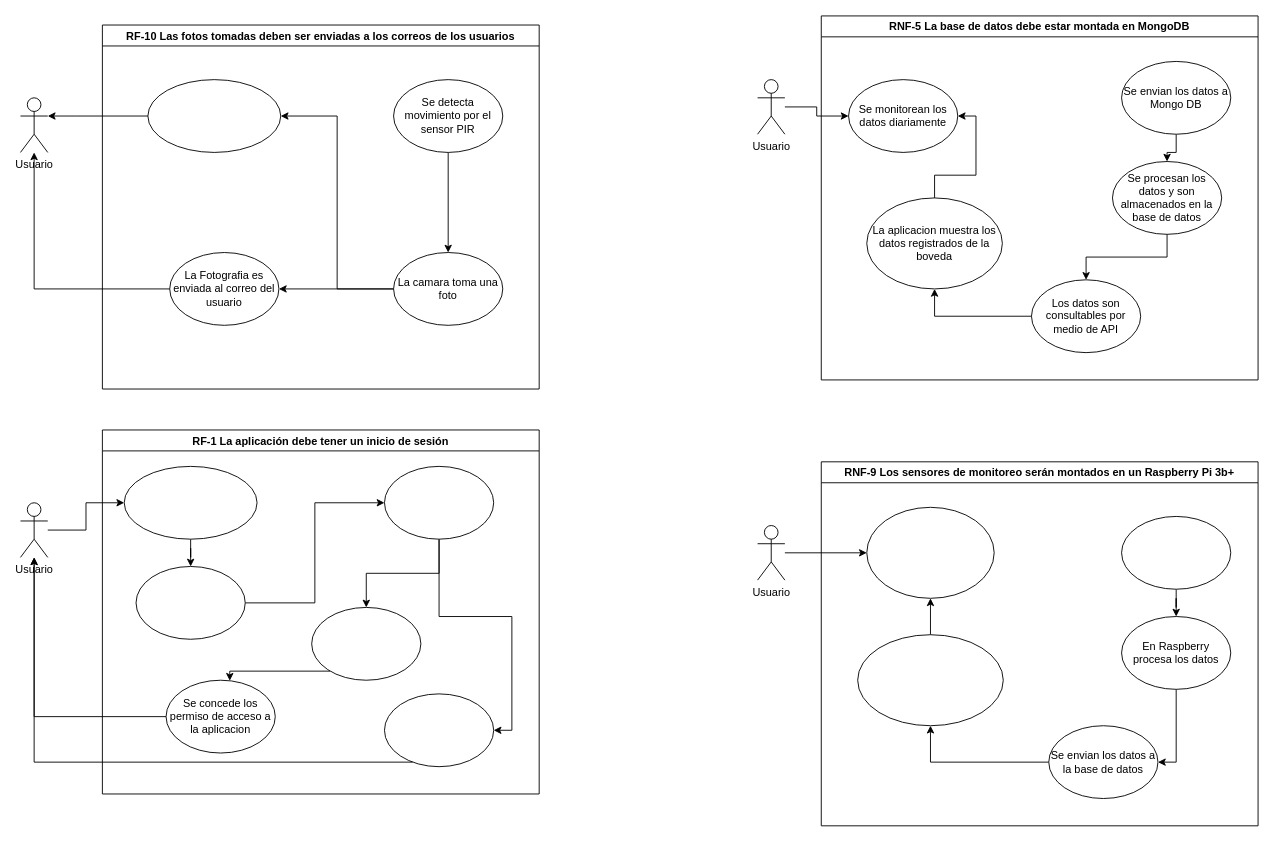
Image size: 1274x842. Some labels were removed from this diagram. Here are the shapes that lost their labels. From the top down, the centre of each, then its label:
(x=214, y=115): Se envia una alerta de movimiento detectado
(x=190, y=502): El usuario ingresa a la aplicacion
(x=439, y=502): Se validan los datos si de la cuenta
(x=930, y=552): Se monitorean los datos diariamente a traves de la aplicacion
(x=1176, y=552): Los sensores registran los datos
(x=190, y=602): Introduce su nombre de usuario y contraseña
(x=366, y=643): Los datos son correctos
(x=930, y=680): La aplicacion grafica los datos y los muestra por medio de reportes
(x=439, y=730): Se niegan los permisos de acceso a la aplicacion
